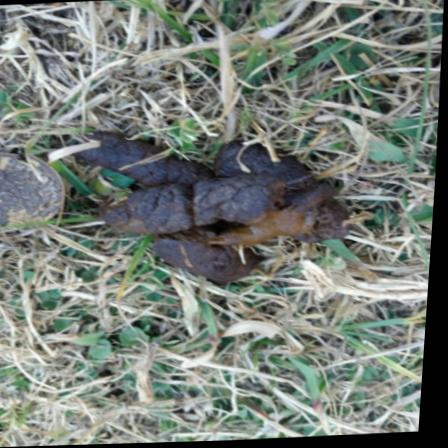dog-poop: (74, 116, 361, 293)
